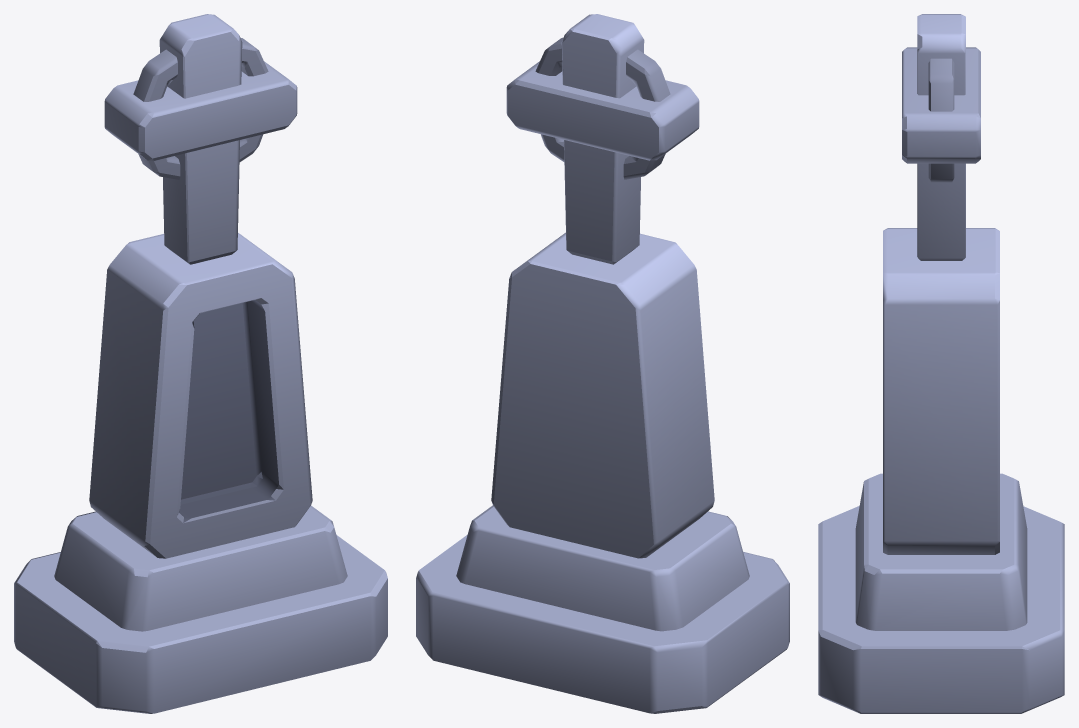
File: kenney-graveyard__gravestone-cross.glb
3 renders of one model, left to right at view 1: azimuth 30°, elevation 25°; view 2: azimuth 150°, elevation 25°; view 3: azimuth 270°, elevation 25°, orthographic.
Parts seen in each view (by area): view 1: gravestone-cross; view 2: gravestone-cross; view 3: gravestone-cross.
Part boxes in pixels (box(x1,y1,x2,y2)): gravestone-cross: box(14, 14, 387, 713); gravestone-cross: box(416, 14, 789, 713); gravestone-cross: box(818, 14, 1064, 713).
Bounding box in the file's own units: 0.45 × 0.915 × 0.33.
Materials: 1 (1 with a texture image).
